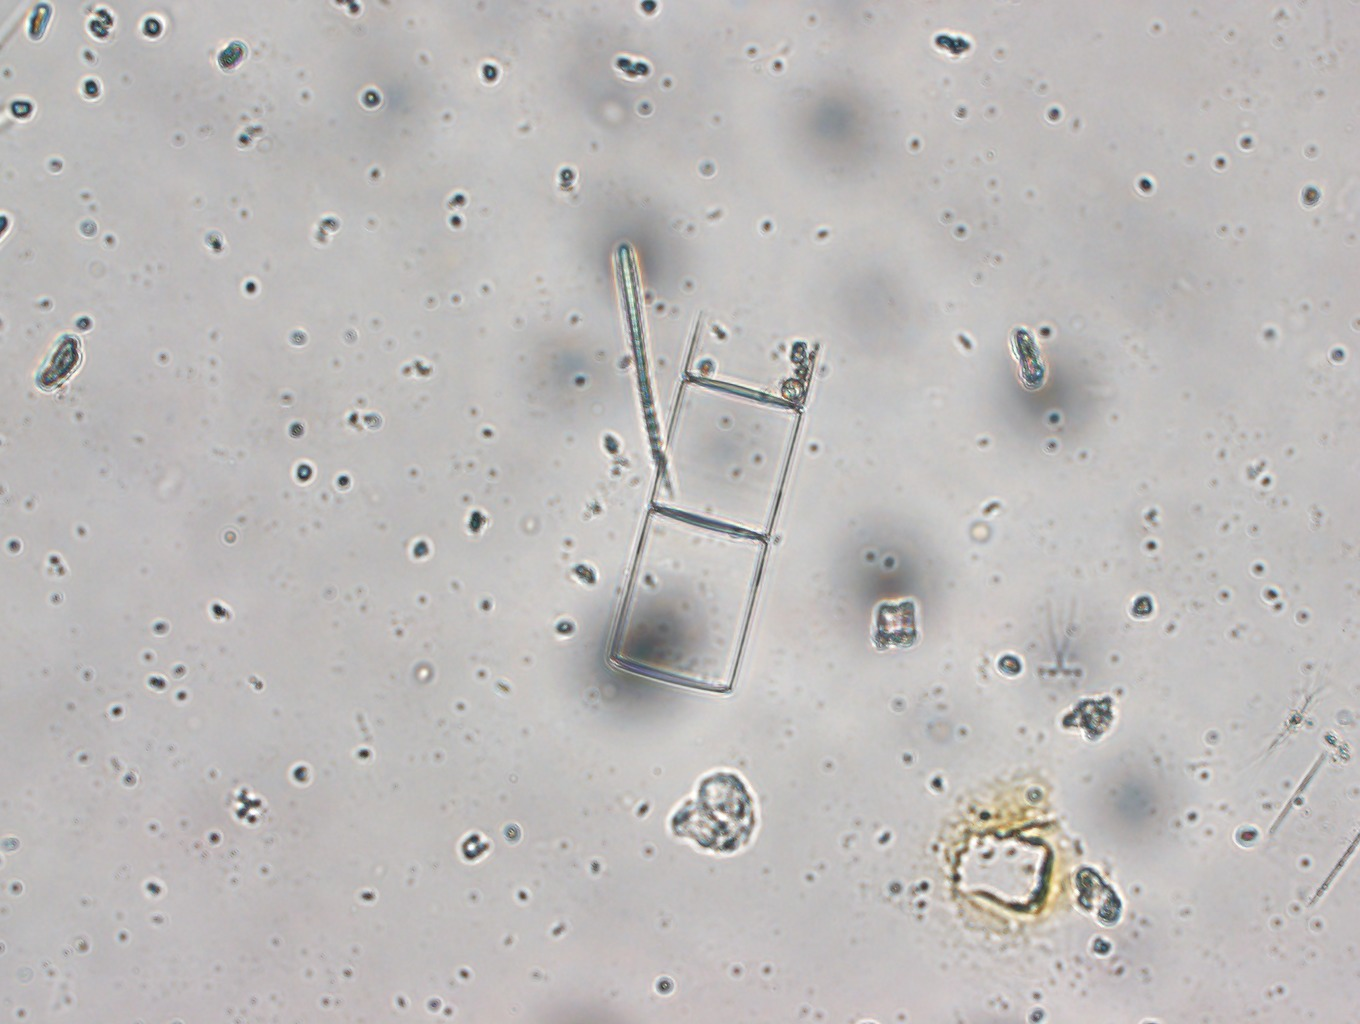guinardia flaccida: (609, 310, 821, 694)
